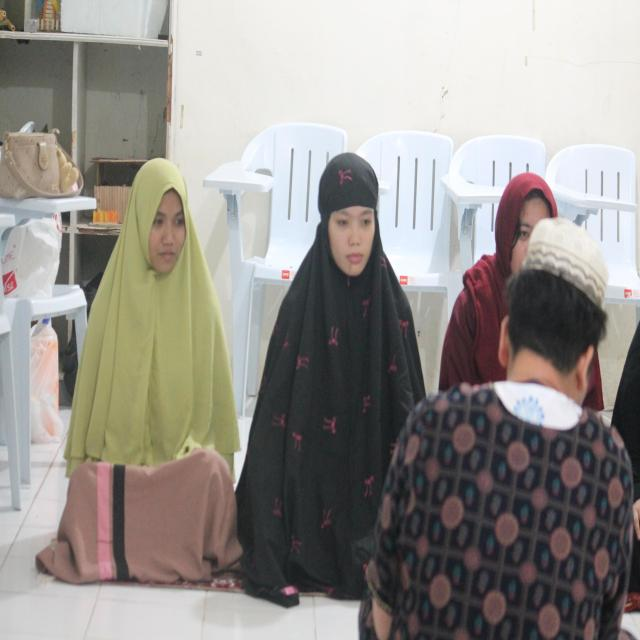4_capucha: (108, 157, 206, 289)
